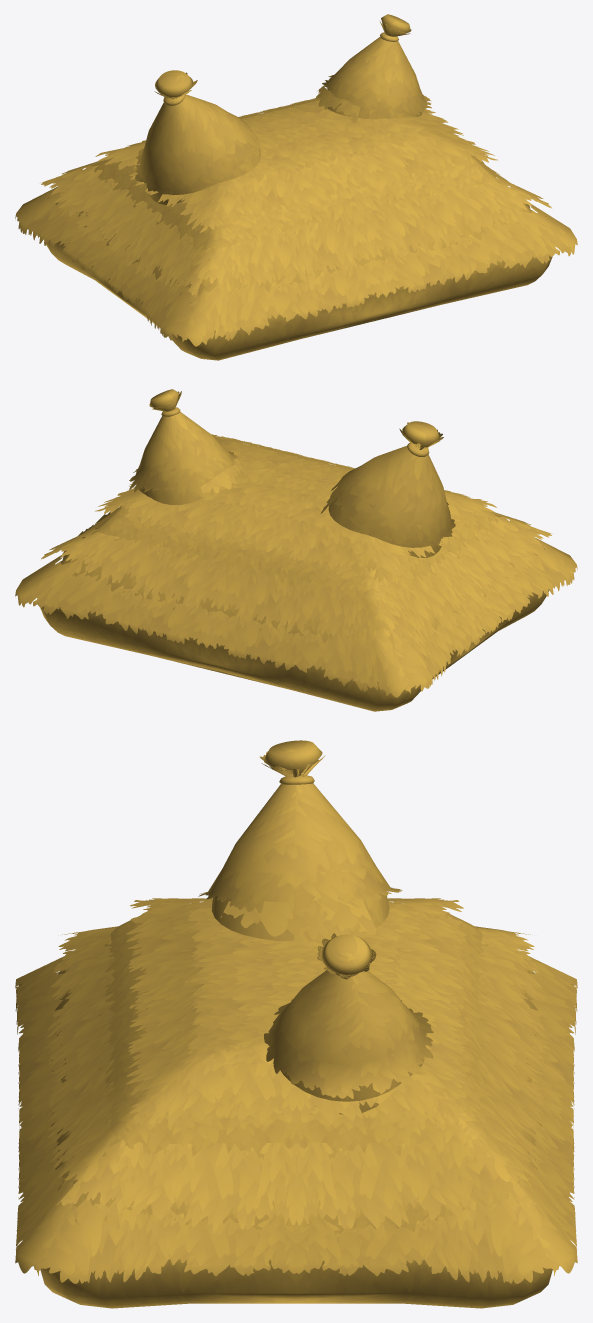
File: Cattac_Straw_Houses_2.fbx
3 renders of one model, top to bottom at view 1: azimuth 30°, elevation 25°; view 2: azimuth 150°, elevation 25°; view 3: azimuth 270°, elevation 25°, orthographic. The views are drawn at different scales.
Visible parts, largest first — view 1: BaseHouseRoofCatEar__1_.006; view 2: BaseHouseRoofCatEar__1_.006; view 3: BaseHouseRoofCatEar__1_.006.
Part boxes in pixels (box(x1,y1,x2,y2)): BaseHouseRoofCatEar__1_.006: box(15, 14, 577, 360); BaseHouseRoofCatEar__1_.006: box(15, 389, 577, 711); BaseHouseRoofCatEar__1_.006: box(15, 740, 577, 1308).
Size of the model in its own units: 40.9 by 21.41 by 31.7.
